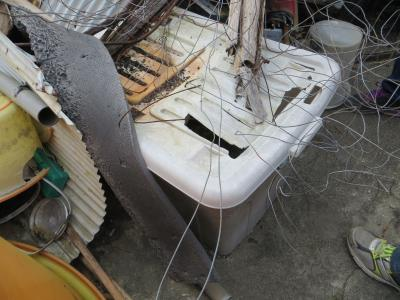box: (102, 6, 344, 257)
bucket: (303, 14, 364, 111)
